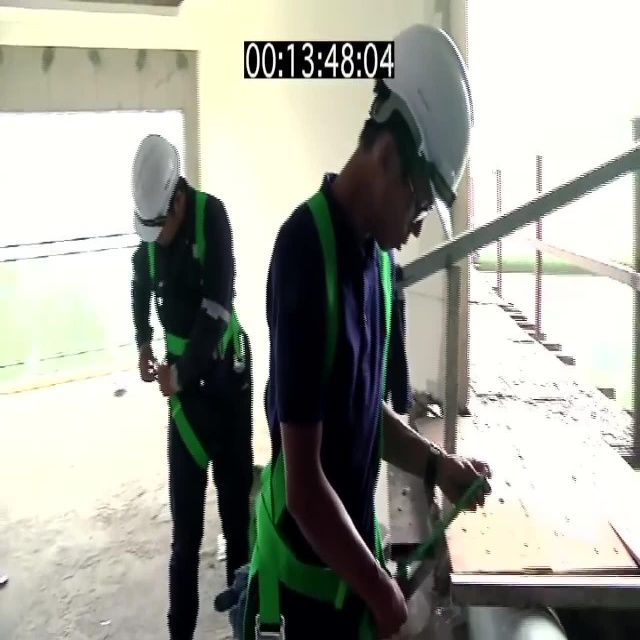Arnes_seguridad: (254, 193, 392, 625), (145, 172, 249, 478)
